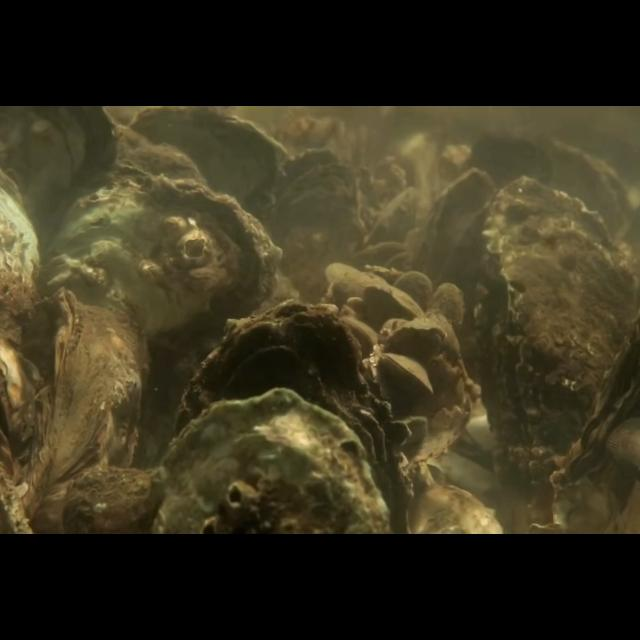Oyster-Closed: (49, 172, 283, 448), (180, 298, 410, 534), (148, 387, 388, 535), (27, 287, 146, 535), (418, 166, 498, 320), (363, 283, 423, 319), (386, 324, 448, 356), (393, 271, 433, 319), (431, 282, 464, 332)
Oyster-Open: (473, 174, 633, 471), (261, 148, 357, 290), (379, 353, 433, 395)
